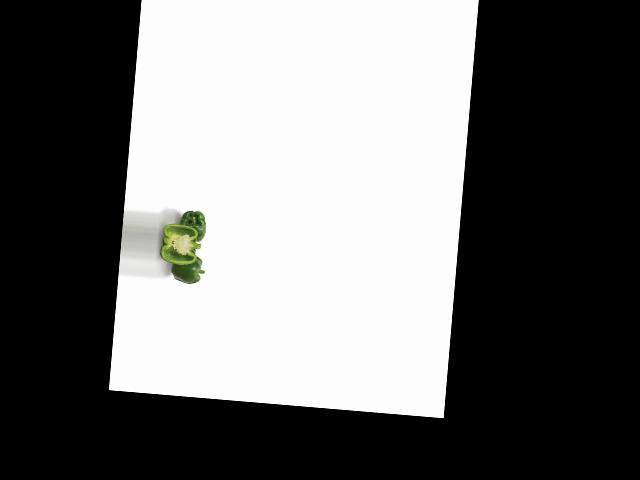bell_pepper: (174, 206, 210, 245)
